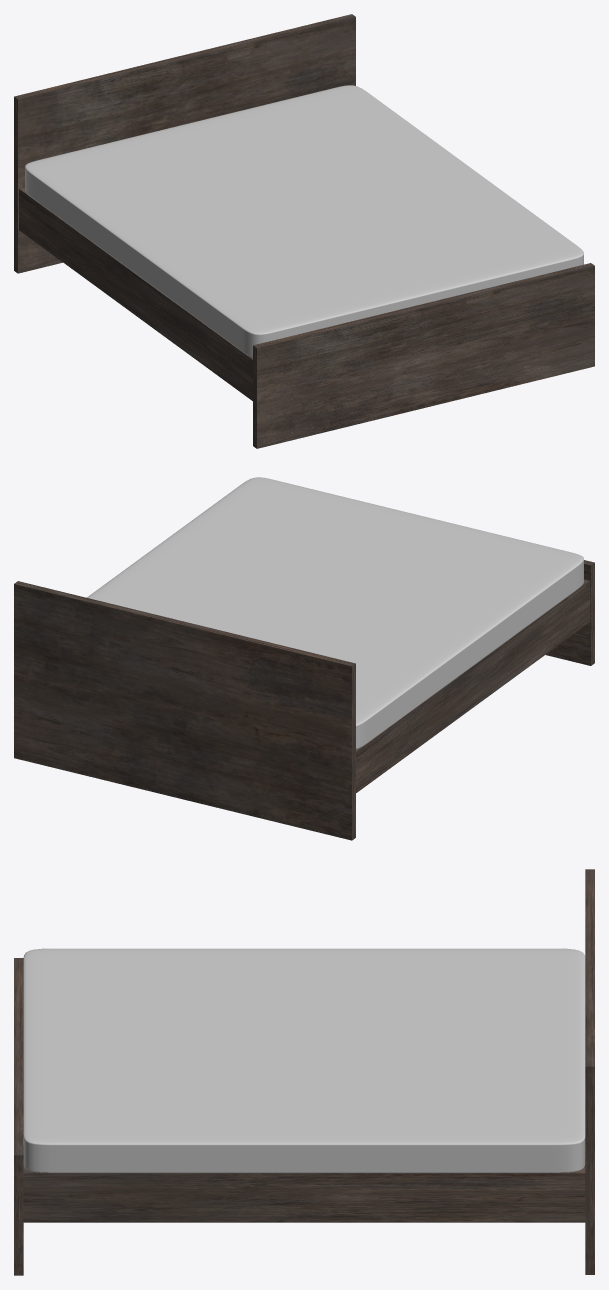
File: NIKOL.obj
3 views of the same model, one above another, from view 1: azimuth 30°, elevation 25°; view 2: azimuth 150°, elevation 25°; view 3: azimuth 270°, elevation 25° (orthographic). The views are drawn at different scales.
Parts seen in each view (by area): view 1: Cube.003_Cube.004, Cube.001_Cube.002, Cube_Cube.001, Cube.002_Cube.003; view 2: Cube.003_Cube.004, Cube_Cube.001, Cube.002_Cube.003, Cube.001_Cube.002; view 3: Cube.003_Cube.004, Cube.002_Cube.003, Cube_Cube.001, Cube.001_Cube.002.
Part boxes in pixels (x1,y1,x2,y2): Cube.003_Cube.004: [25, 85, 583, 356]; Cube.001_Cube.002: [253, 263, 594, 448]; Cube_Cube.001: [14, 14, 355, 273]; Cube.002_Cube.003: [19, 187, 252, 400]; Cube.003_Cube.004: [87, 477, 583, 749]; Cube_Cube.001: [14, 581, 355, 840]; Cube.002_Cube.003: [356, 579, 589, 792]; Cube.001_Cube.002: [545, 560, 594, 665]; Cube.003_Cube.004: [23, 948, 585, 1172]; Cube.002_Cube.003: [23, 1165, 585, 1222]; Cube_Cube.001: [585, 869, 594, 1274]; Cube.001_Cube.002: [14, 958, 23, 1275].
Bounding box in the file's own units: 3.25 × 1.6 × 4.04.
